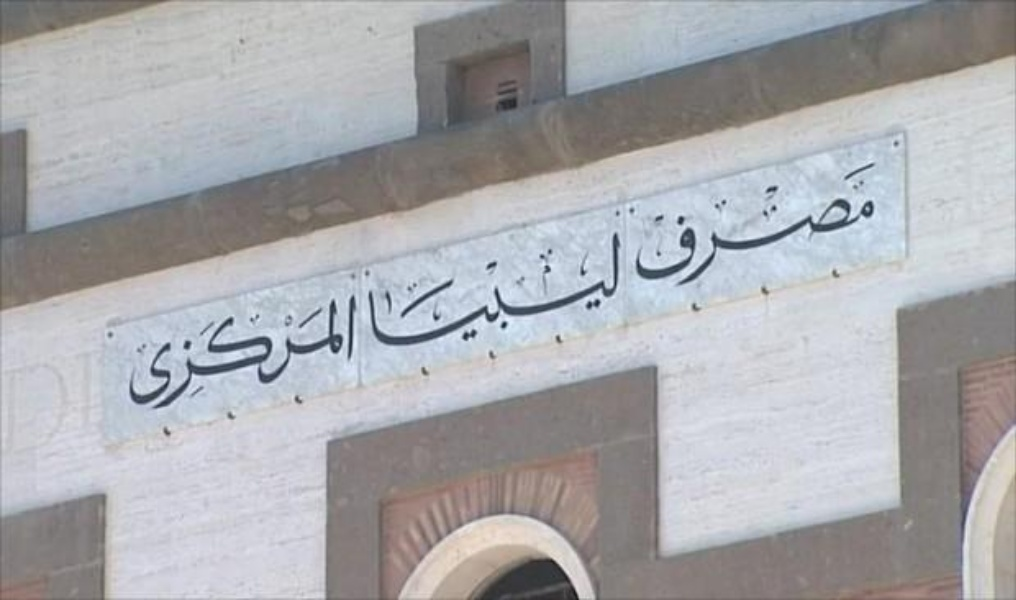text: (641, 155, 656, 299), (657, 155, 672, 299), (673, 155, 688, 299), (689, 155, 704, 299), (705, 155, 720, 299), (721, 155, 736, 299), (737, 155, 752, 299), (753, 155, 768, 299), (769, 155, 784, 299), (785, 155, 800, 299), (801, 155, 816, 299), (817, 155, 832, 299), (833, 155, 848, 299), (849, 155, 864, 299), (865, 155, 880, 299), (609, 227, 625, 356), (369, 227, 384, 356), (385, 227, 400, 356), (401, 227, 416, 356), (417, 227, 432, 356), (433, 227, 448, 356), (449, 227, 464, 356), (465, 227, 480, 356), (481, 227, 496, 356), (497, 227, 512, 356), (513, 227, 528, 356), (529, 227, 544, 356), (545, 227, 560, 356), (561, 227, 576, 356), (577, 227, 592, 356), (593, 227, 608, 356), (145, 291, 160, 420), (161, 291, 176, 420), (177, 291, 192, 420), (193, 291, 208, 420), (209, 291, 224, 420), (225, 291, 240, 420), (241, 291, 256, 420), (257, 291, 272, 420), (273, 291, 288, 420), (289, 291, 304, 420), (305, 291, 320, 420), (321, 291, 336, 420), (337, 291, 352, 420), (135, 291, 144, 420), (353, 291, 361, 420), (881, 155, 885, 299), (638, 155, 640, 299)
